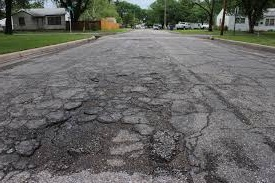pothole: (1, 116, 180, 177)
